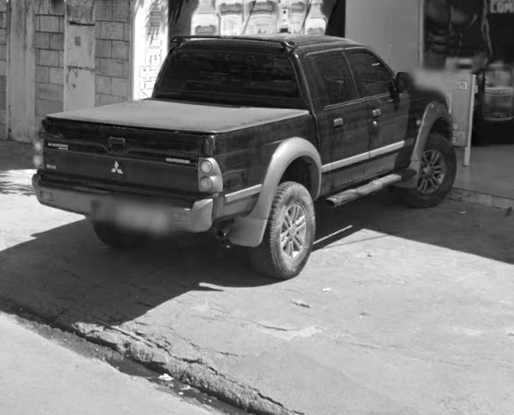car: (27, 29, 460, 281)
